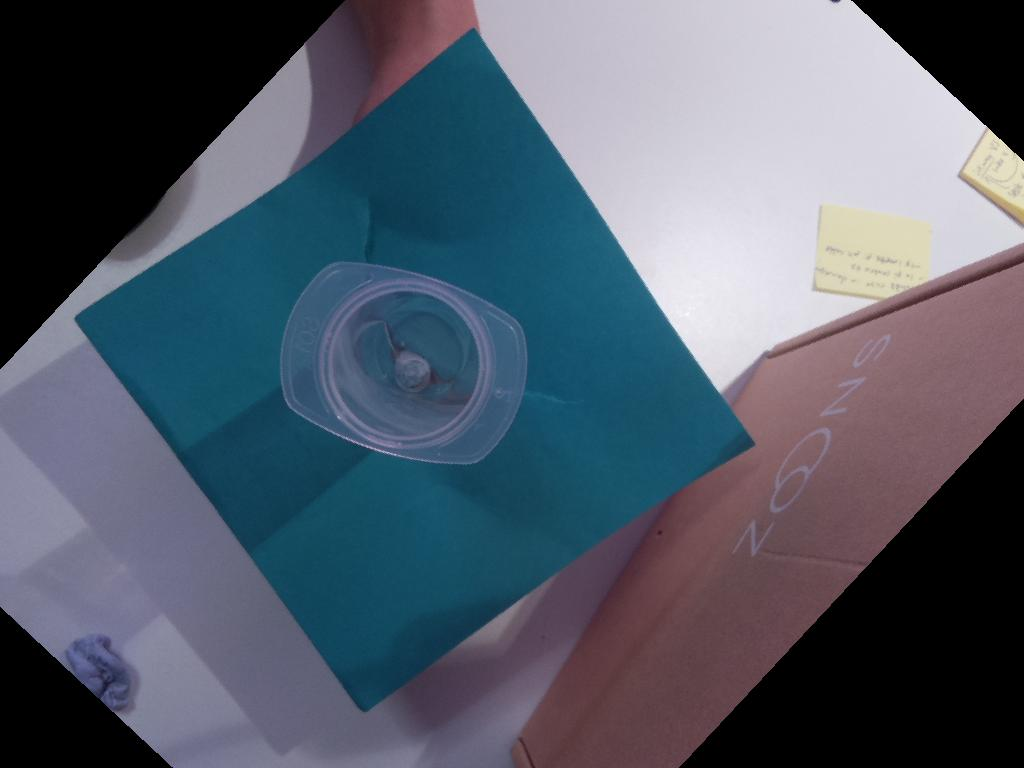clean: (269, 256, 543, 478)
